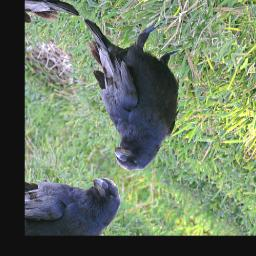Crow: (31, 0, 219, 182)
